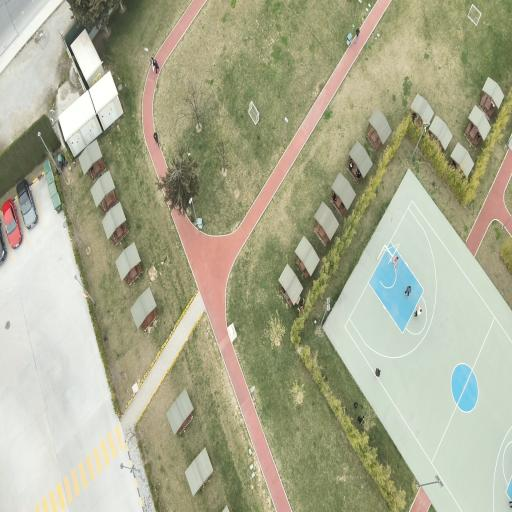car: (2, 200, 22, 248), (17, 180, 37, 228), (0, 221, 7, 263)
person: (150, 56, 160, 74), (354, 28, 359, 43), (405, 286, 411, 298), (154, 59, 159, 73), (154, 132, 159, 146), (393, 256, 398, 268), (415, 306, 421, 316), (356, 169, 362, 179), (358, 416, 365, 424), (375, 368, 380, 377), (332, 193, 337, 201), (350, 160, 353, 169), (354, 403, 358, 409)
